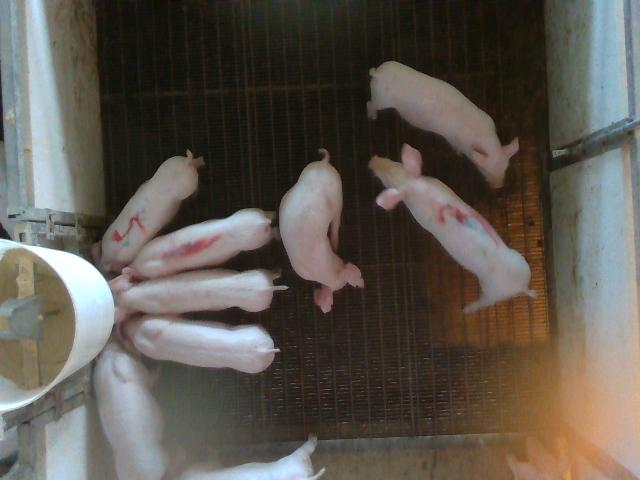pig-1: (129, 209, 276, 279)
pig-3: (369, 145, 535, 313)
pig-5: (92, 151, 204, 276)
